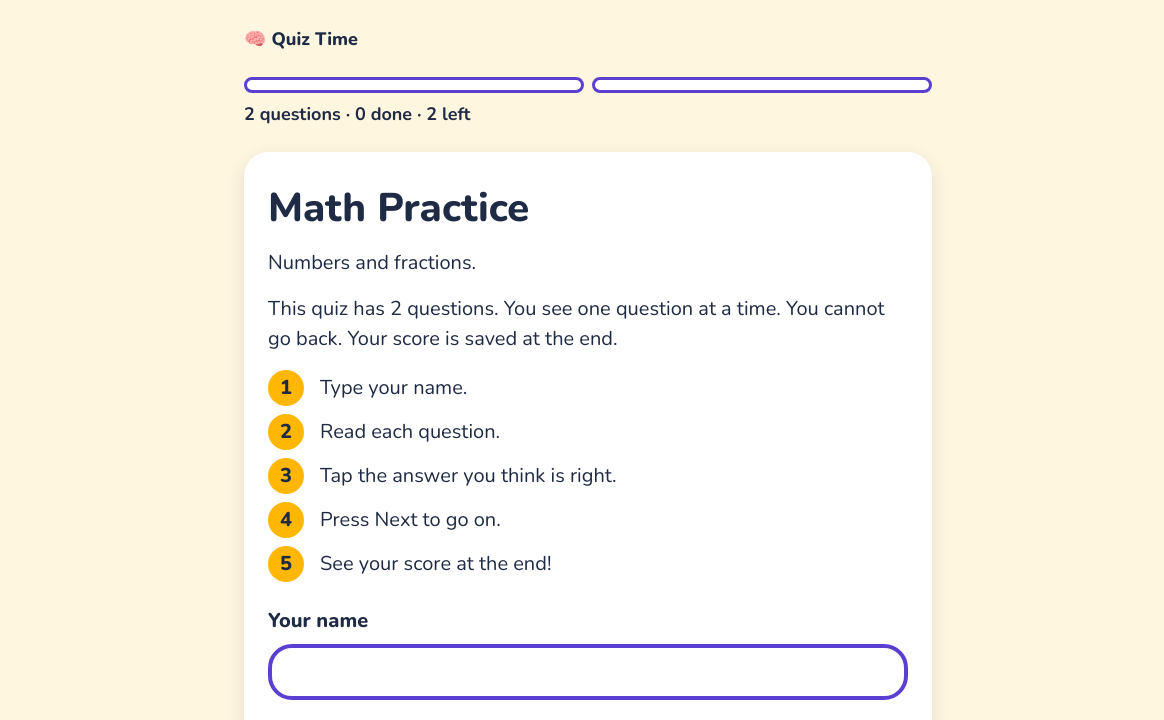
Test: QuestionPage › submits every answer on Finish and shows the result
The width and height of the screenshot is (1164, 720).
Type "Sam" into the field labelled "Your name" at (588, 672), box [268,644,908,700]
(page scrolled)
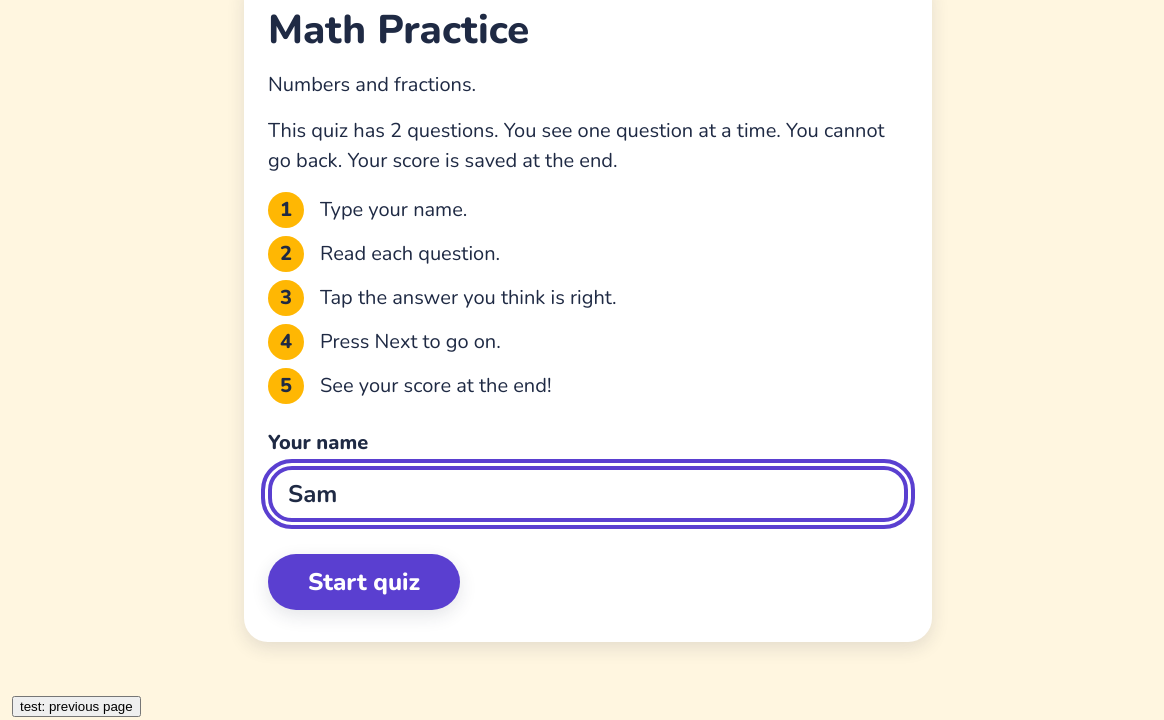
Click the button "Start quiz" at (364, 582), box [268,554,460,610]
(page scrolled)
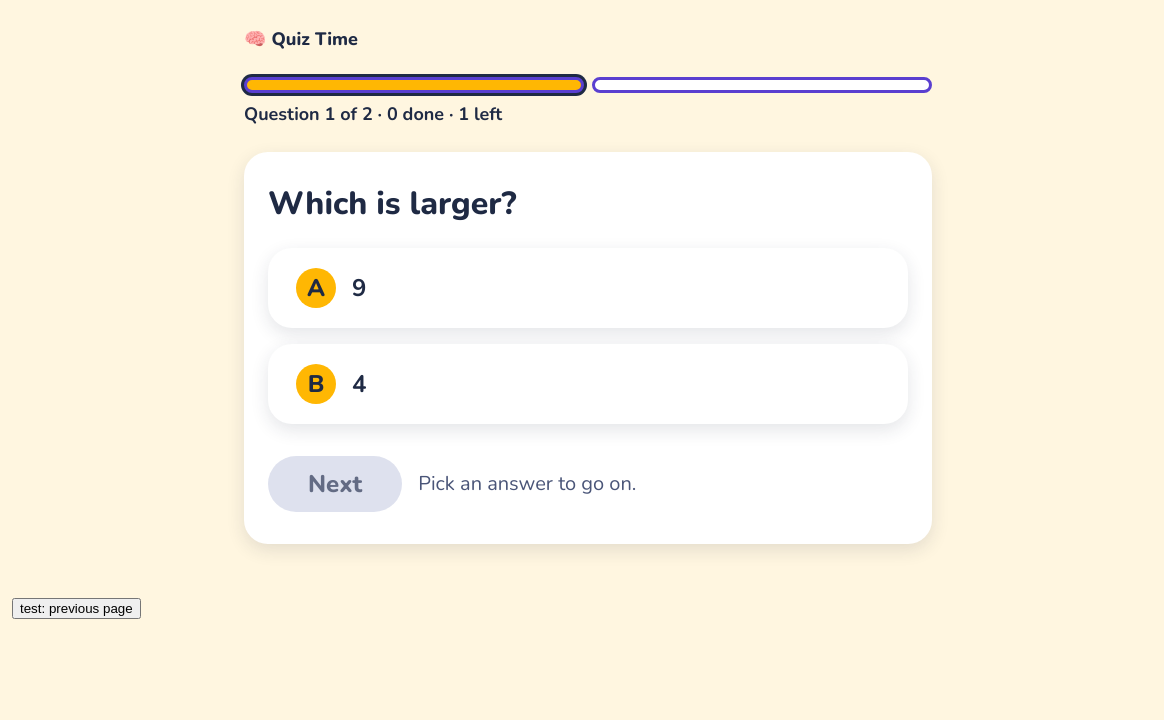
Now the text "Question 1 of 2 · 0 done · 1 left" is shown, box [244,102,502,126]
Click the radio button labelled "A 9" at (316, 288), box [268,248,908,328]
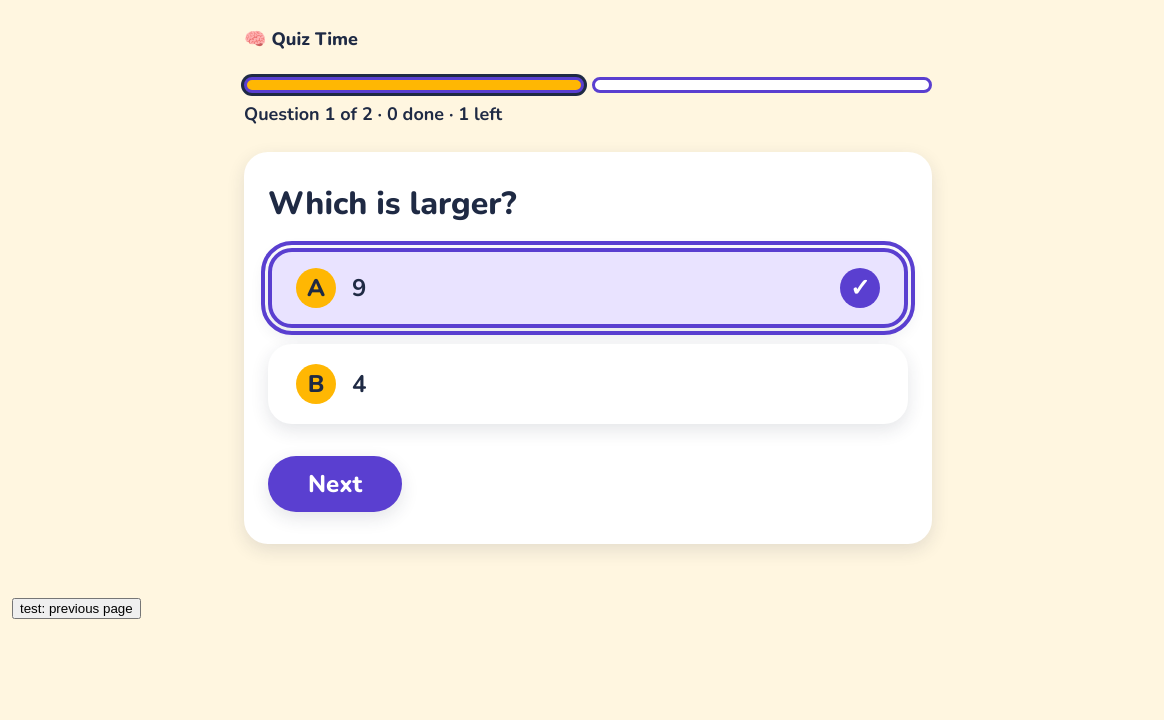
Click the button "Next" at (335, 484), box [268,456,402,512]
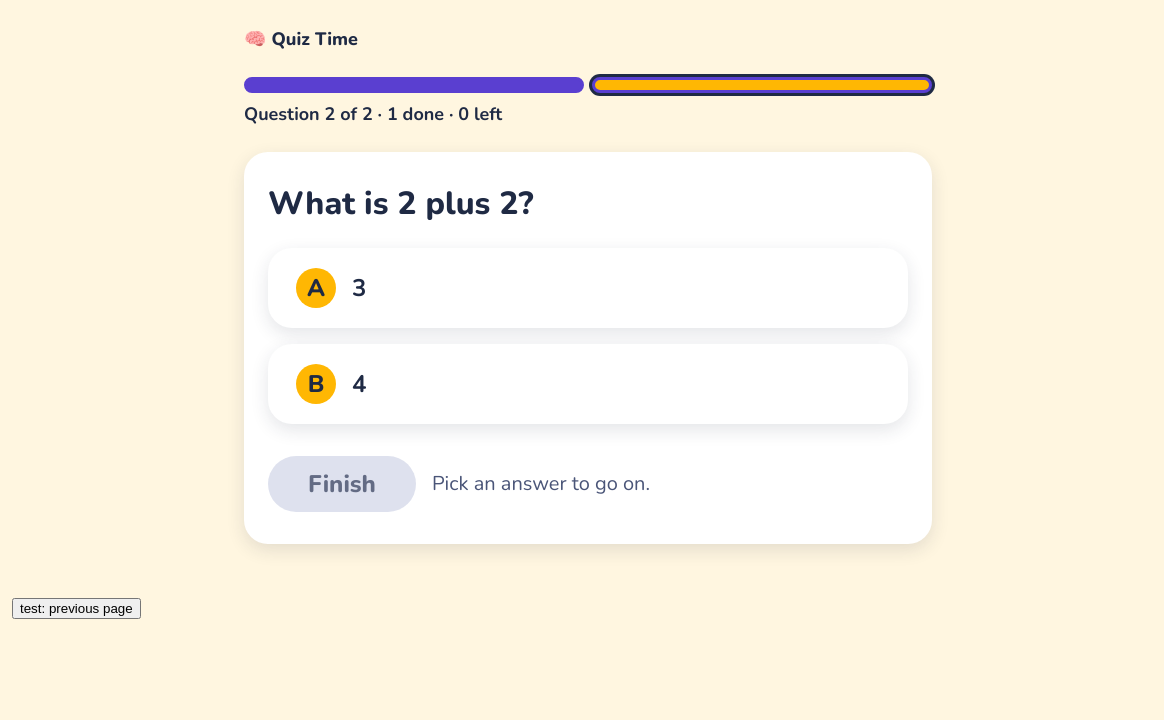
Click the radio button labelled "B 4" at (316, 384), box [268,344,908,424]
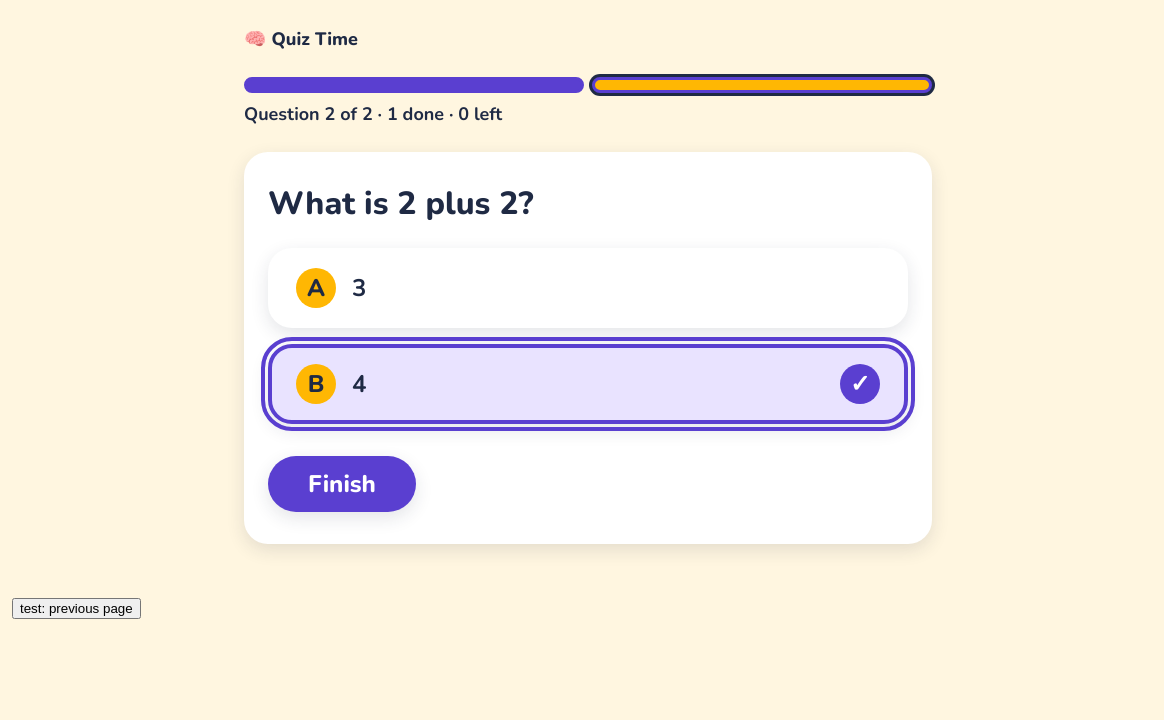
Click the button "Finish" at (342, 484), box [268,456,416,512]
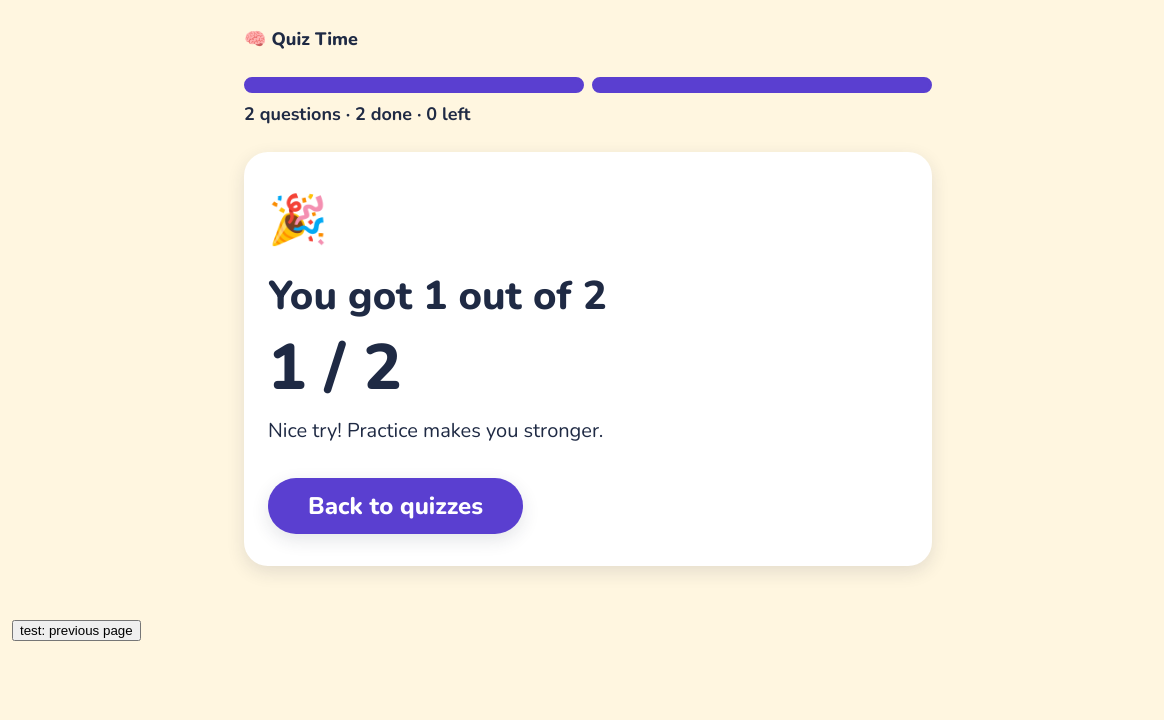
Now the heading "You got 1 out of 2" is shown, box [268,269,607,323]
